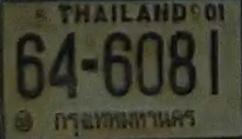0: (136, 31, 164, 95)
1: (208, 30, 218, 94)
4: (48, 31, 76, 98)
6: (15, 32, 44, 99), (102, 30, 131, 96)
8: (168, 30, 196, 95)
BKK: (51, 107, 199, 134)
